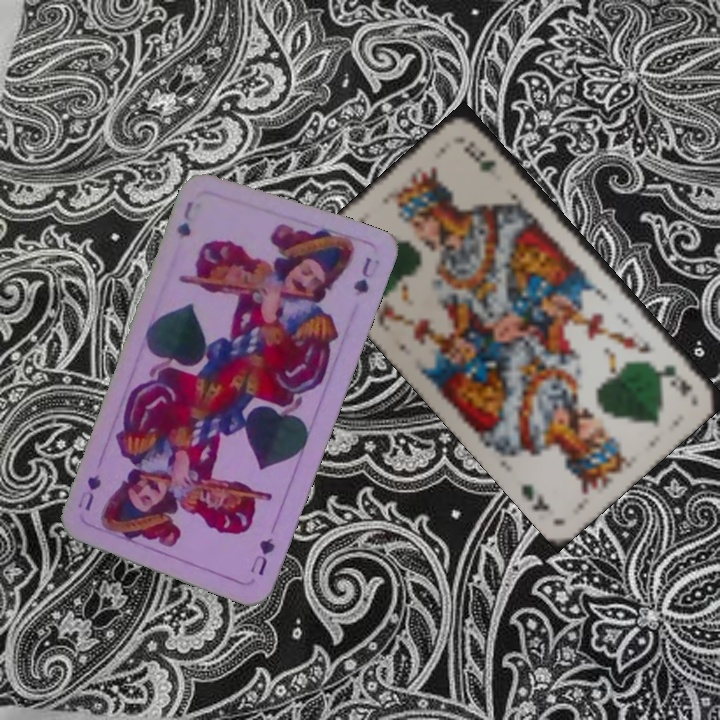GK: (655, 360, 696, 400)
GU: (246, 533, 278, 578), (171, 197, 196, 242)
